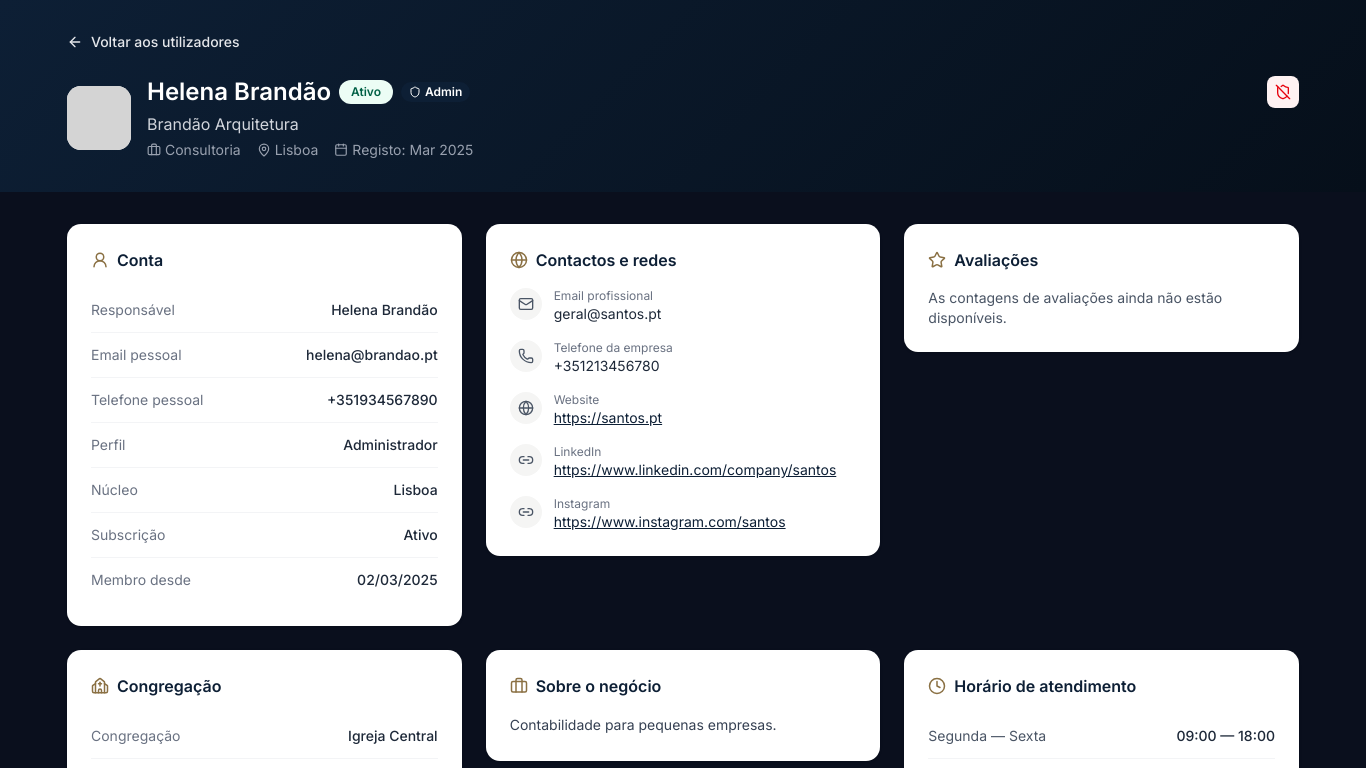
Test: Despromover administrador no detalhe › abre o diálogo com a descrição, a contagem de administradores e o botão em contagem decrescente
Click the button named "Despromover Helena Brandão".
click(1283, 92)  # box [1267, 76, 1299, 108]
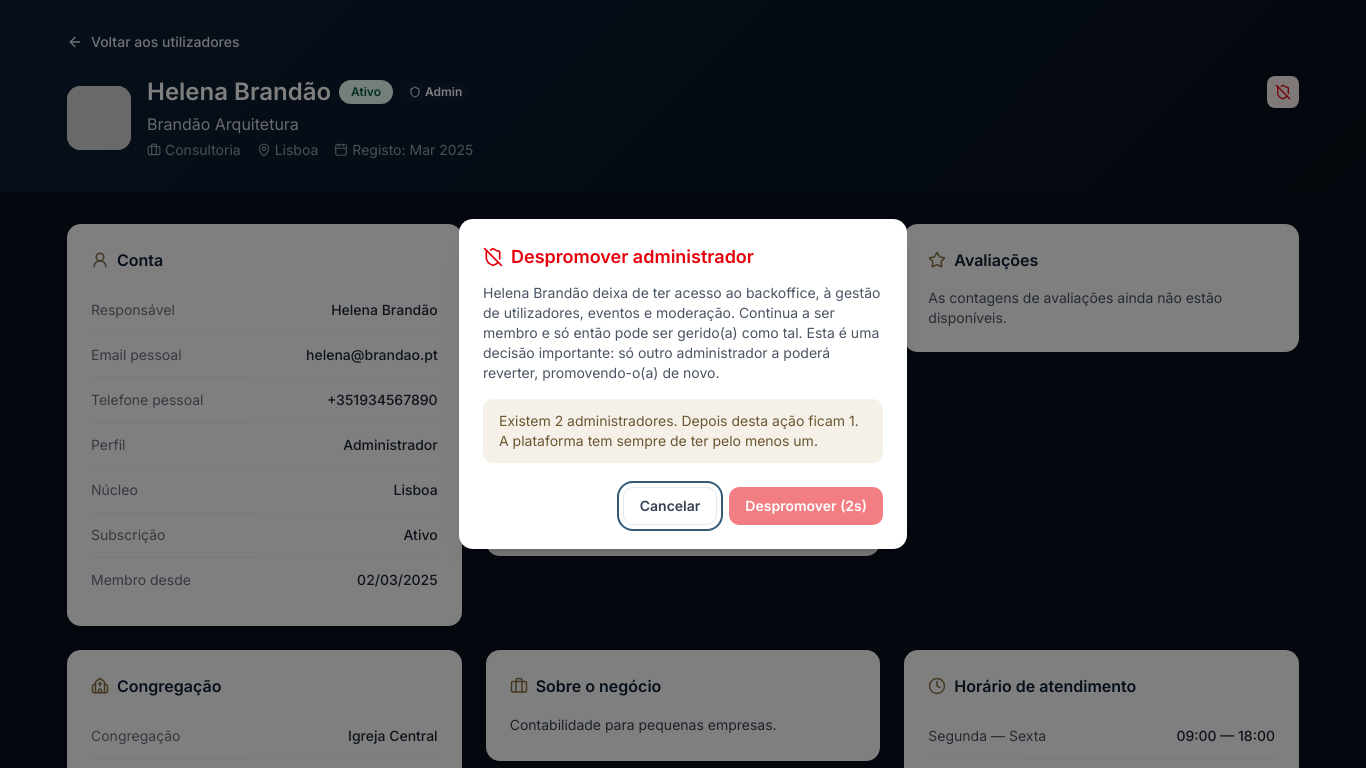
Check: the text "Existem 2 administradores. Depois desta ação ficam 1. A plataforma tem sempre de ter pelo menos um." is shown, box [499, 412, 859, 449]
Check: the button "Cancelar" is enabled, box [623, 487, 717, 525]
Check: the button "Despromover (2s)" is disabled, box [729, 487, 883, 525]
